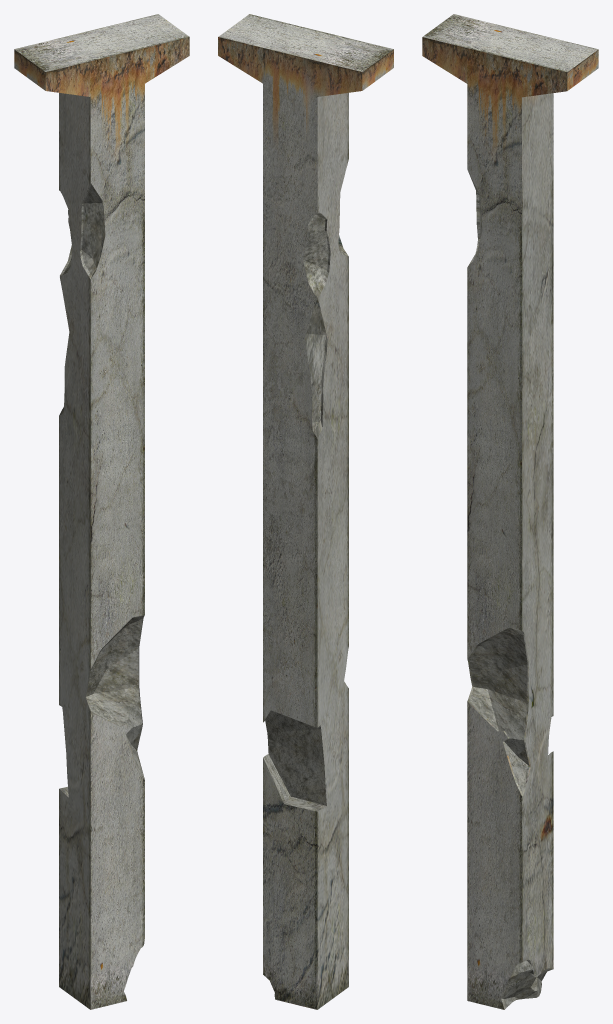
Rendered from Factory1Column06.FBX.
The picture shows the model from 3 angles, left to right: view 1: azimuth 30°, elevation 25°; view 2: azimuth 150°, elevation 25°; view 3: azimuth 330°, elevation 25°; orthographic projection.
Visible parts, largest first — view 1: Factory1Column06; view 2: Factory1Column06; view 3: Factory1Column06.
Part boxes in pixels (x1=…): Factory1Column06: x1=14, y1=14, x2=189, y2=1009; Factory1Column06: x1=218, y1=14, x2=393, y2=1009; Factory1Column06: x1=422, y1=14, x2=598, y2=1009.
Size of the model in its own units: 124 by 782 by 46.93.
